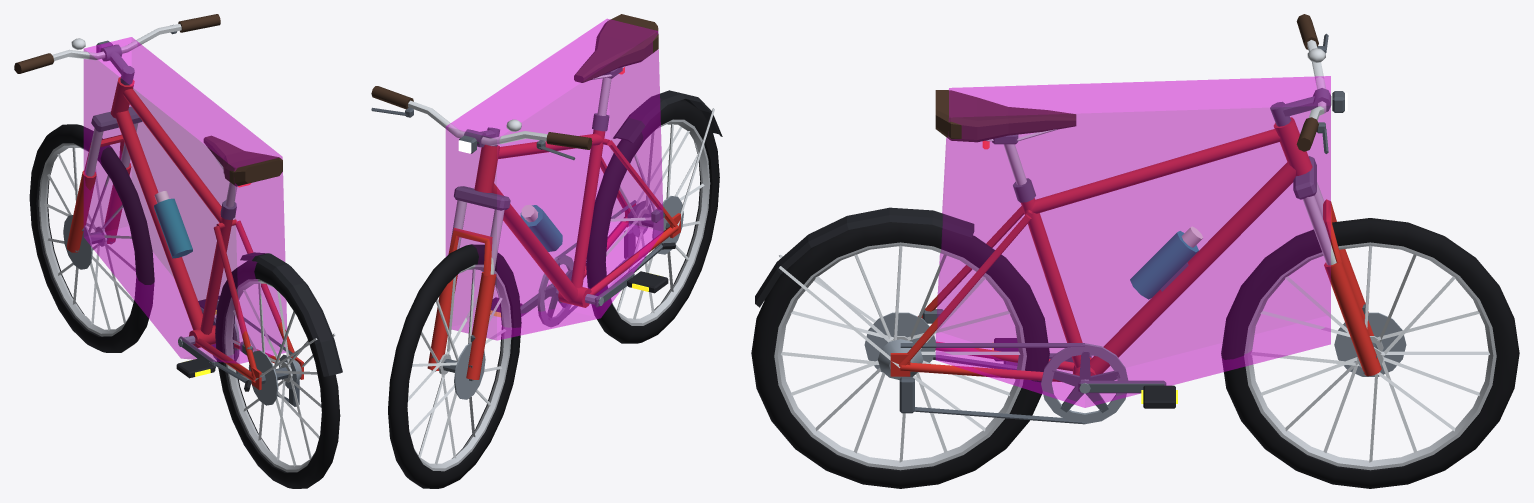
File: bicycle.glb
3 views of the same model, side by side, from view 1: azimuth 30°, elevation 25°; view 2: azimuth 150°, elevation 25°; view 3: azimuth 270°, elevation 25° (orthographic). The views are drawn at different scales.
Parts seen in each view (by area): view 1: Col_Body, Body, Wheel_F, Wheel_R, Handlebar, Crank; view 2: Col_Body, Body, Wheel_F, Wheel_R, Handlebar, Crank; view 3: Col_Body, Body, Wheel_F, Wheel_R, Handlebar, Crank.
Part boxes in pixels (box(x1,y1,x2,y2)): Col_Body: box(83, 37, 287, 363); Body: box(110, 76, 342, 406); Wheel_F: box(29, 124, 154, 352); Wheel_R: box(215, 261, 340, 488); Handlebar: box(14, 14, 220, 252); Crank: box(176, 296, 239, 378); Col_Body: box(445, 18, 663, 340); Body: box(474, 14, 722, 323); Wheel_F: box(388, 244, 521, 488); Wheel_R: box(586, 99, 719, 343); Handlebar: box(371, 86, 592, 380); Crank: box(490, 255, 668, 327); Col_Body: box(935, 76, 1330, 407); Body: box(755, 90, 1312, 424); Wheel_F: box(1221, 218, 1519, 488); Wheel_R: box(751, 222, 1049, 488); Handlebar: box(1270, 14, 1381, 376); Crank: box(992, 338, 1177, 424).
Size of what is drawn, in the model's own units: 0.6727 by 1.05 by 1.75.
